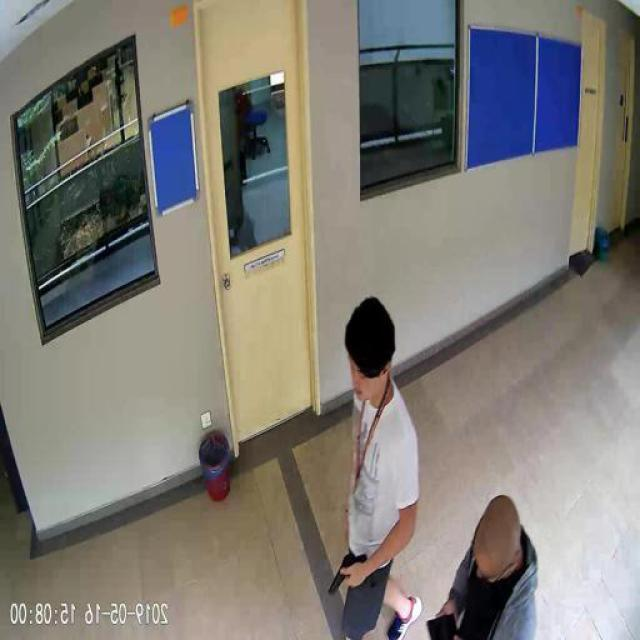weapon: (323, 552, 367, 596)
